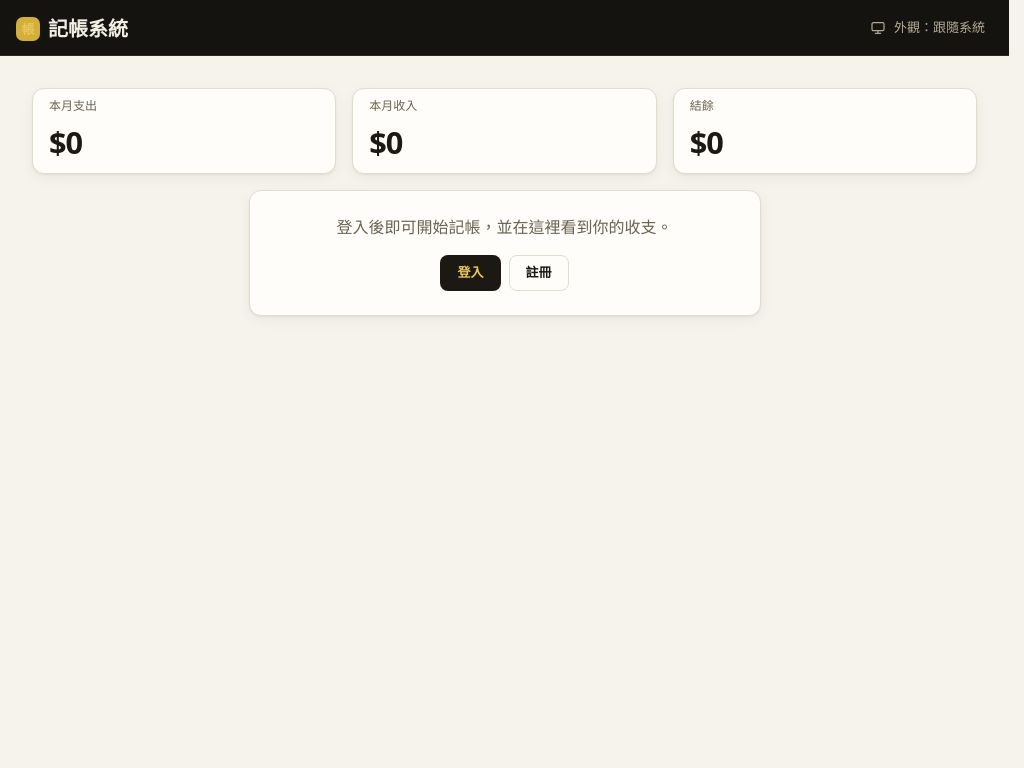
AuthDialog on the home page › closes without signing in
Click the button "登入".
click(470, 273)  # box x1=440 y1=255 x2=500 y2=291
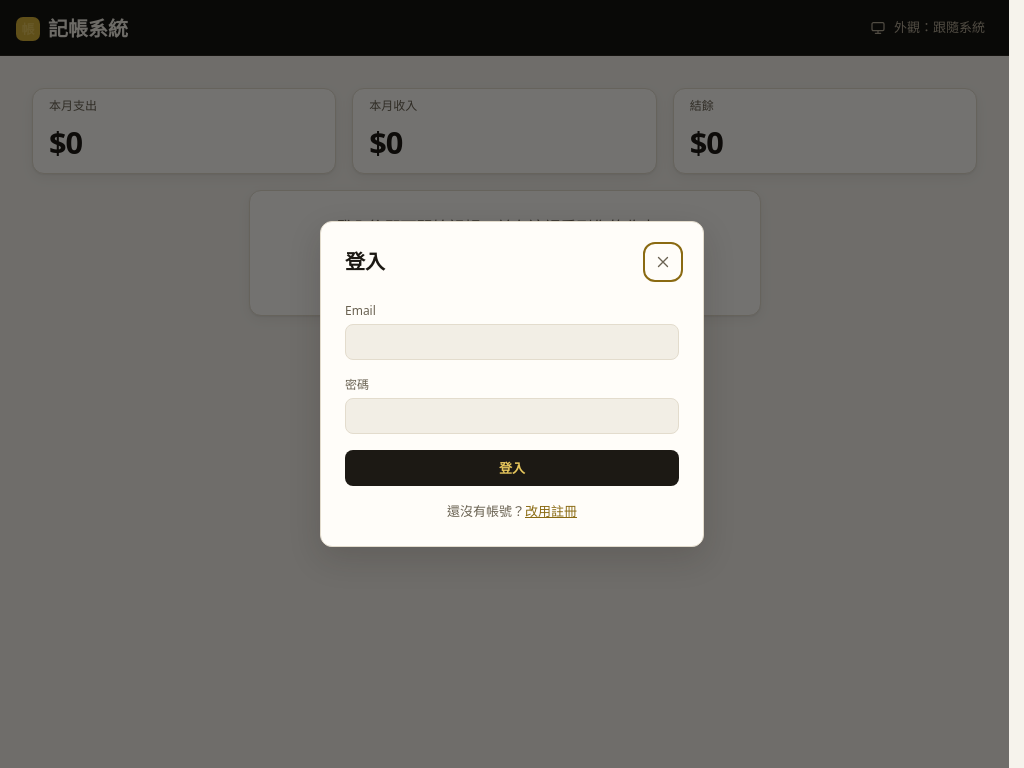
Click the button named "關閉".
click(663, 262)  # box x1=647 y1=246 x2=679 y2=278
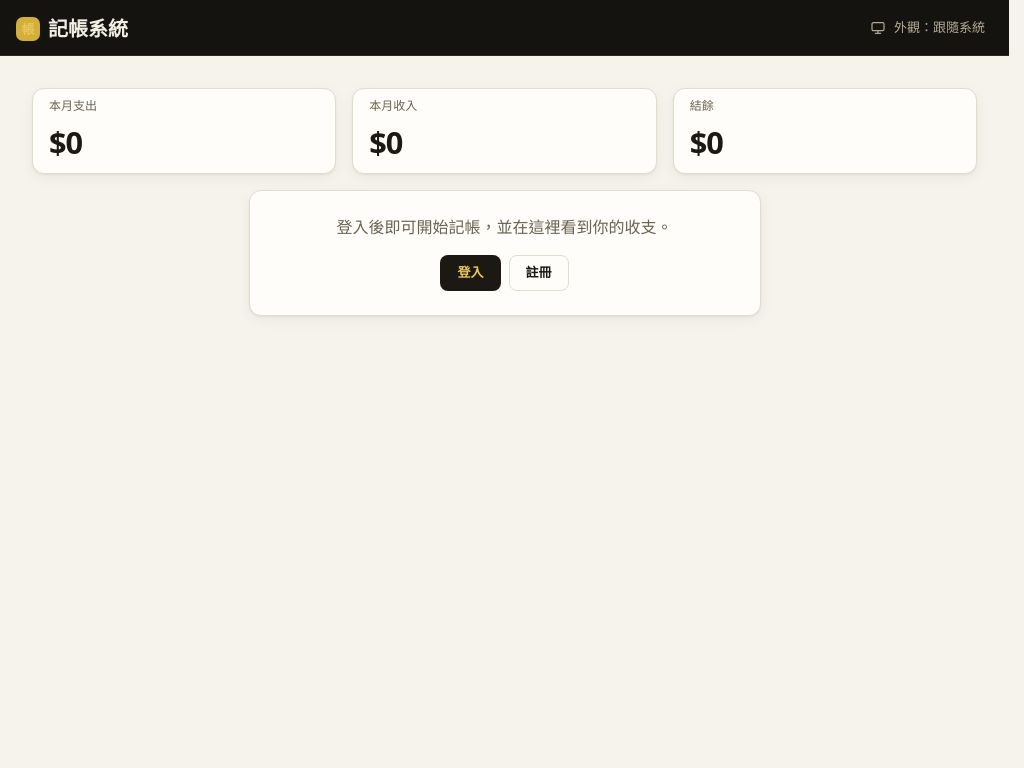
Expected: the text "$0" is shown 3 times, x1=49 y1=121 x2=82 y2=163; x1=369 y1=121 x2=402 y2=163; x1=690 y1=121 x2=723 y2=163
Expected: the dialog is gone
